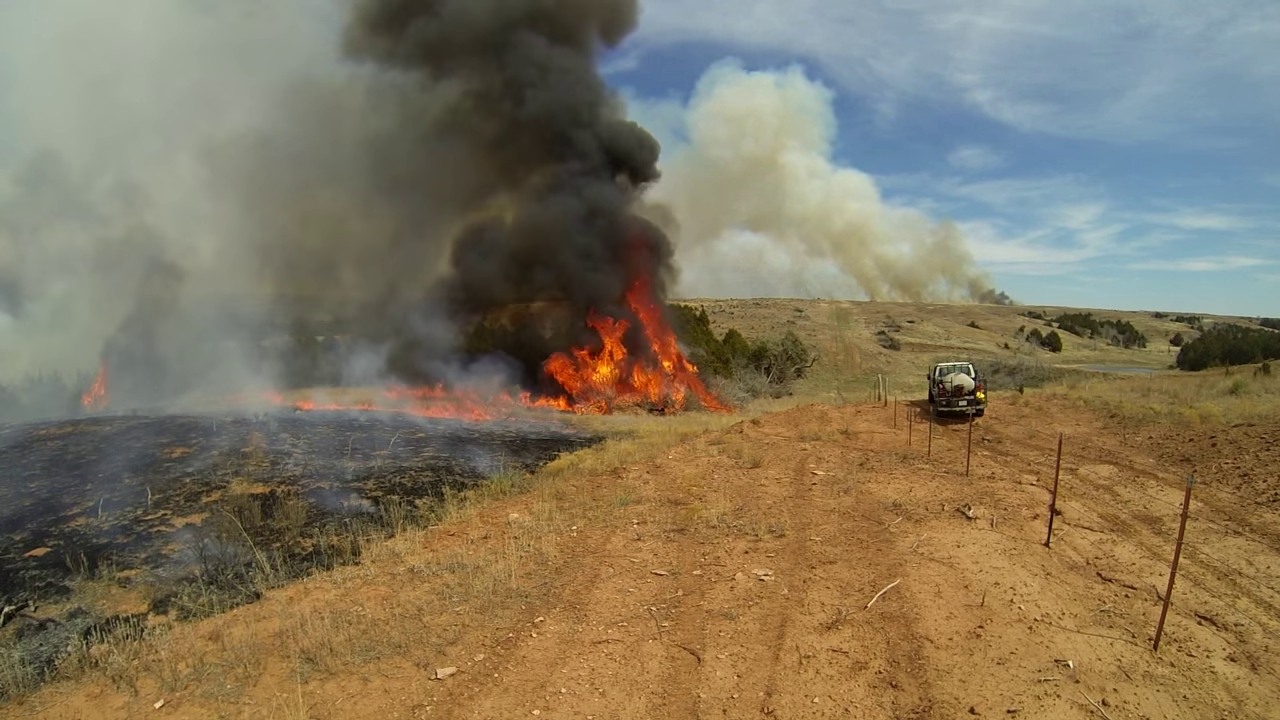forest_fire: (217, 275, 729, 419), (81, 364, 105, 407)
